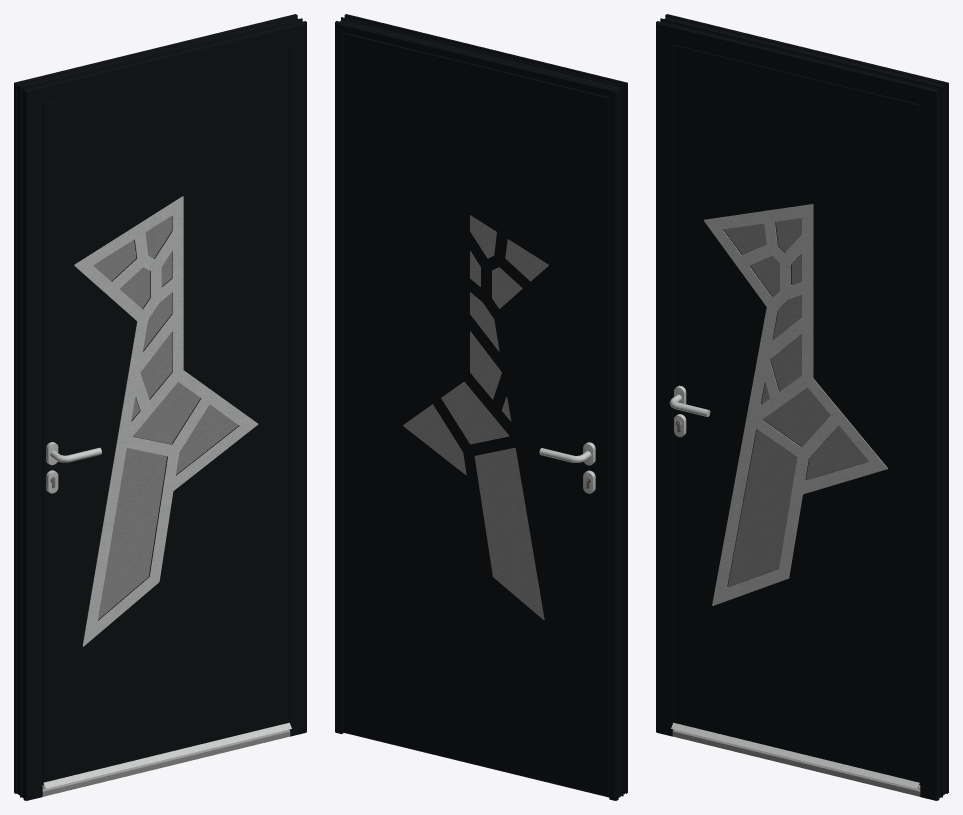
The picture shows the model from 3 angles, left to right: view 1: azimuth 30°, elevation 25°; view 2: azimuth 150°, elevation 25°; view 3: azimuth 330°, elevation 25°; orthographic projection.
Visible parts, largest first — view 1: bloco_48, aroFixo, alunox_32, Plane001, aroMovel, rodapé, escovas, puxador001; view 2: bloco_48, aroFixo, Plane002, aroMovel, puxador; view 3: bloco_48, aroFixo, alunox_32, Plane001, aroMovel, rodapé, escovas, puxador001.
Part boxes in pixels (<box>): bloco_48: <box>44,46,289,782</box>; aroFixo: <box>14,14,306,800</box>; alunox_32: <box>74,196,258,646</box>; Plane001: <box>93,216,238,619</box>; aroMovel: <box>42,44,289,784</box>; rodapé: <box>42,729,290,796</box>; escovas: <box>42,722,291,788</box>; puxador001: <box>46,442,101,493</box>; bloco_48: <box>344,34,607,795</box>; aroFixo: <box>335,14,627,800</box>; Plane002: <box>403,215,548,620</box>; aroMovel: <box>343,32,609,796</box>; puxador: <box>539,442,595,493</box>; bloco_48: <box>673,46,918,782</box>; aroFixo: <box>656,14,948,800</box>; alunox_32: <box>704,204,887,605</box>; Plane001: <box>723,218,868,586</box>; aroMovel: <box>673,44,920,784</box>; rodapé: <box>672,729,920,796</box>; escovas: <box>671,722,920,788</box>; puxador001: <box>669,385,710,437</box>.
Size of the model in its own units: 900 by 2165 by 209.
7 materials, 3 textured.
